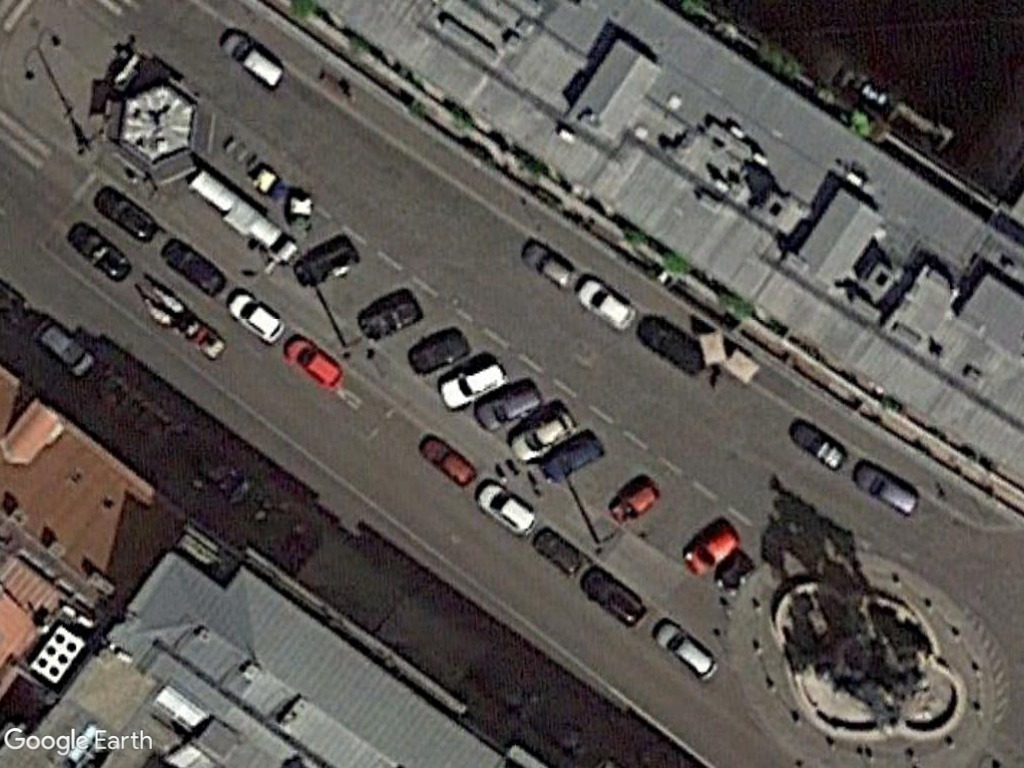car: (652, 617, 720, 684), (32, 317, 102, 381), (850, 459, 922, 521), (504, 410, 578, 463), (436, 362, 514, 411), (476, 477, 535, 541), (576, 276, 641, 333), (283, 333, 345, 392), (417, 433, 479, 490), (516, 237, 576, 292), (679, 525, 742, 577), (474, 386, 547, 430), (226, 291, 287, 343), (607, 483, 667, 527)
van: (222, 28, 287, 95)
